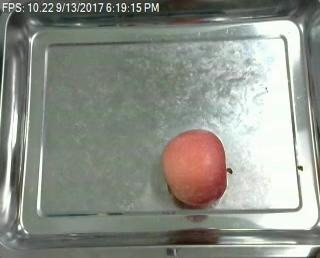apple: (161, 129, 233, 207)
